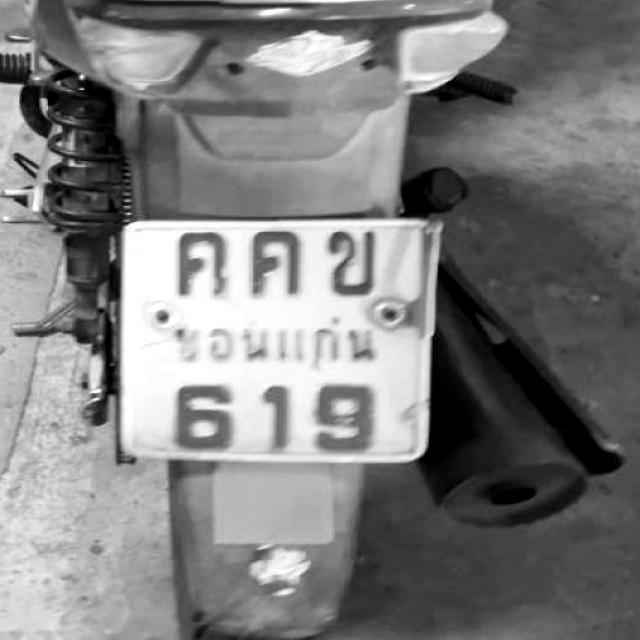letters: (178, 226, 235, 306), (324, 230, 383, 304), (315, 383, 375, 454), (170, 386, 239, 446), (253, 224, 305, 300), (260, 381, 298, 453)
license-plate: (119, 221, 436, 464)
province: (161, 310, 393, 375)
